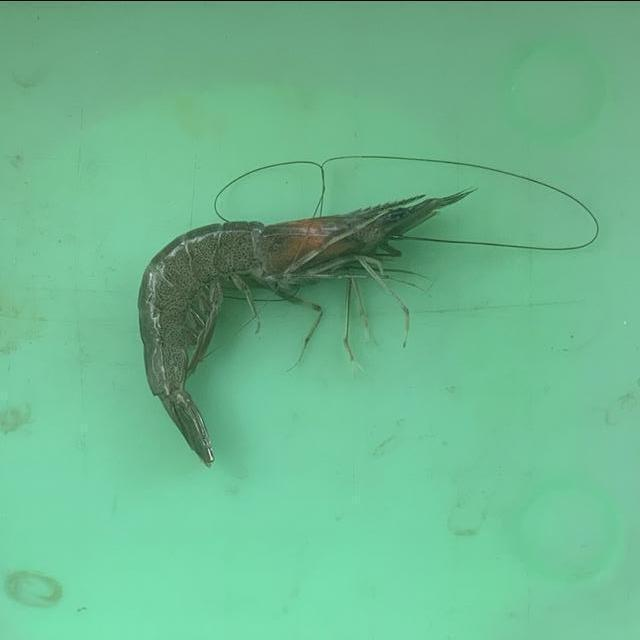shrimp: (138, 190, 470, 464)
